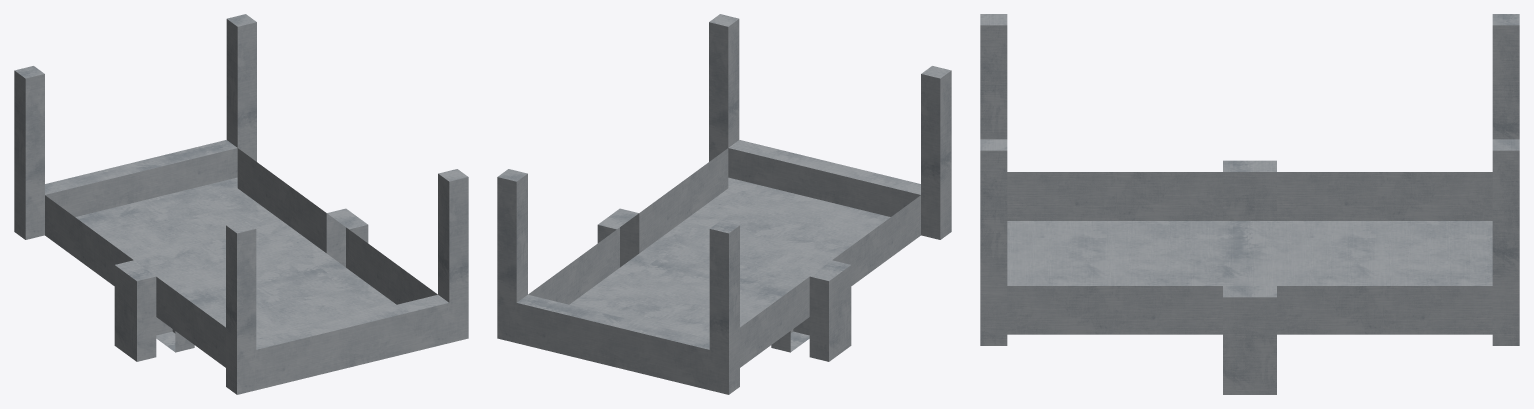
File: Foundation-Standard-Sniper-Series-Mag-7-Stand-Base.obj
3 views of the same model, side by side, from view 1: azimuth 30°, elevation 25°; view 2: azimuth 150°, elevation 25°; view 3: azimuth 270°, elevation 25° (orthographic). The views are drawn at different scales.
Visible parts, largest first — view 1: Foundation-Standard-Sniper-Series-Mag-7-Stand-Base; view 2: Foundation-Standard-Sniper-Series-Mag-7-Stand-Base; view 3: Foundation-Standard-Sniper-Series-Mag-7-Stand-Base.
Part boxes in pixels (x1,y1,x2,y2): Foundation-Standard-Sniper-Series-Mag-7-Stand-Base: [14, 14, 468, 394]; Foundation-Standard-Sniper-Series-Mag-7-Stand-Base: [497, 14, 951, 394]; Foundation-Standard-Sniper-Series-Mag-7-Stand-Base: [980, 14, 1519, 394].
Bounding box in the file's own units: 1.2 × 1 × 2.
